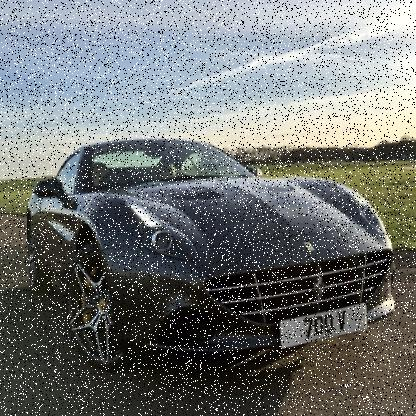licence: (284, 301, 363, 348)
